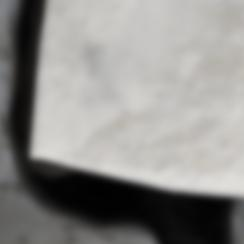brick: (32, 0, 243, 195)
crack: (2, 0, 242, 243)
